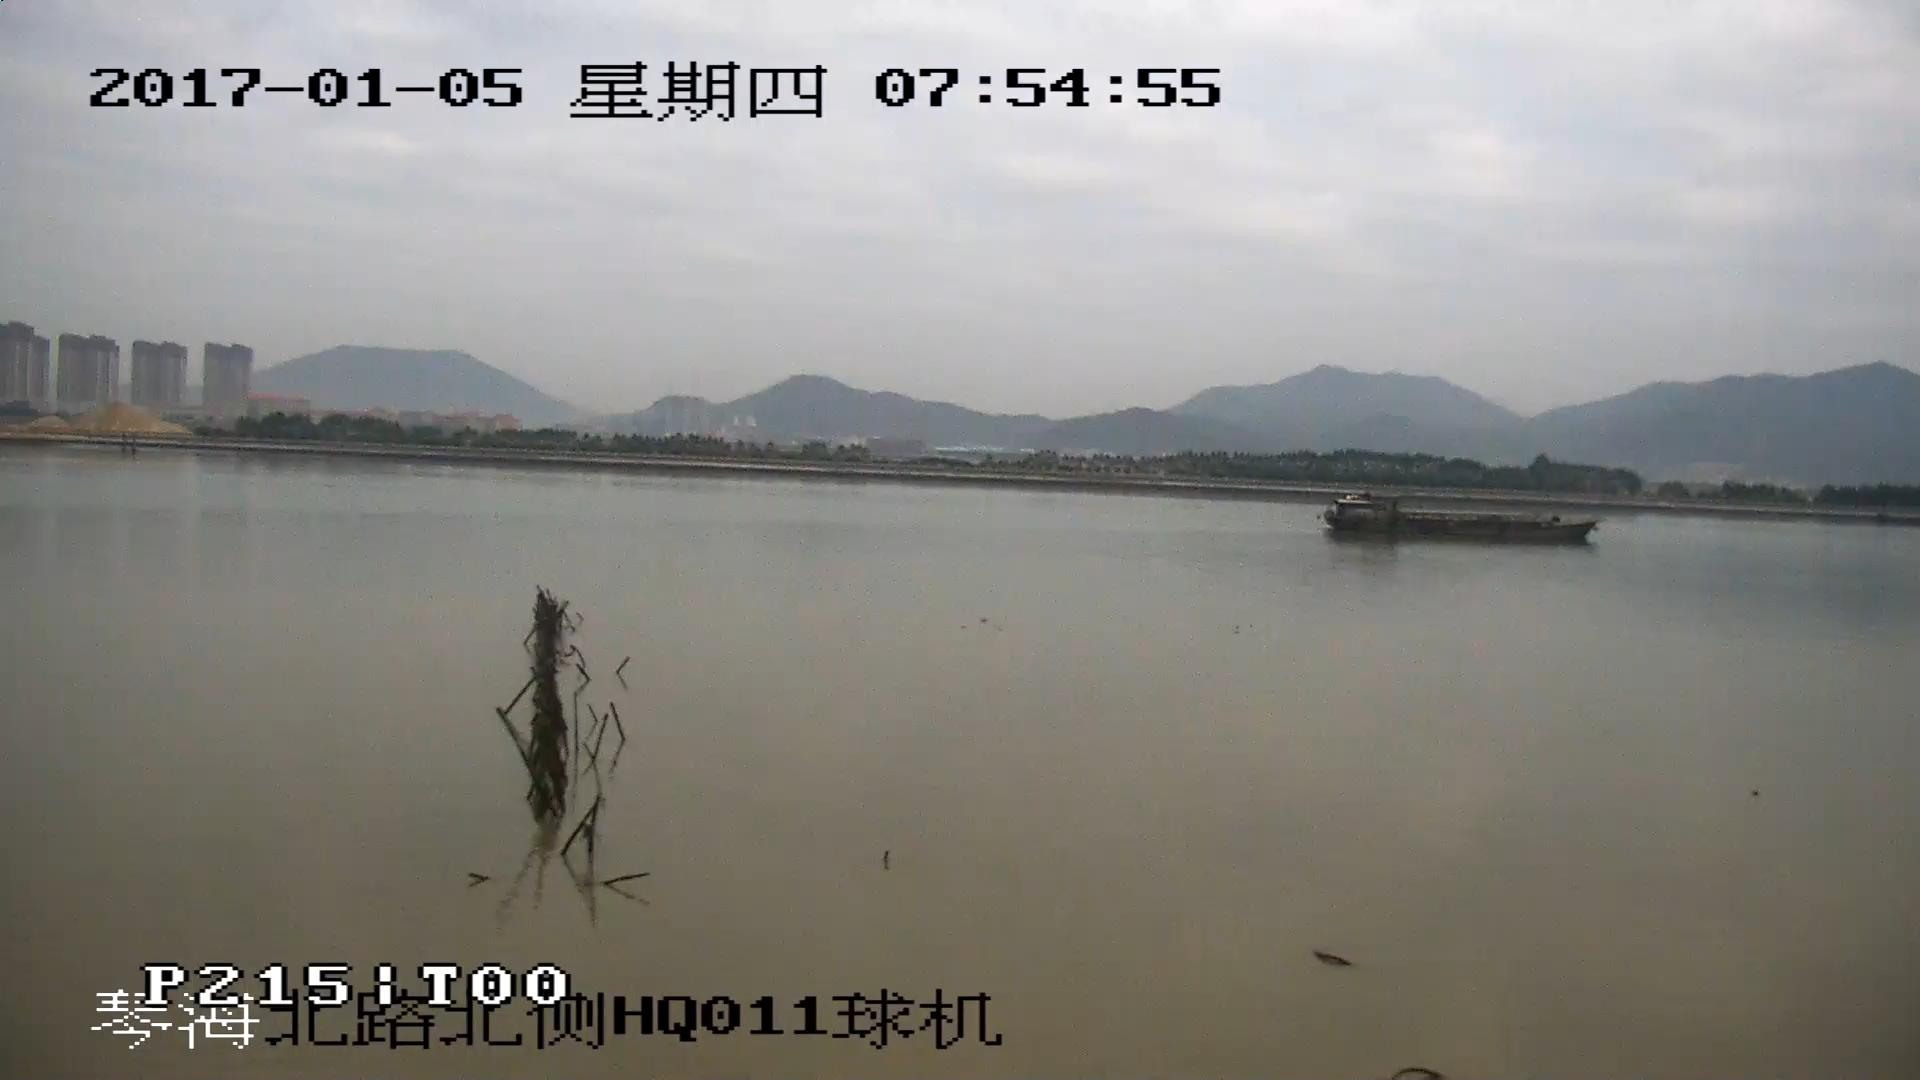bulk cargo carrier: (1323, 495, 1598, 544)
